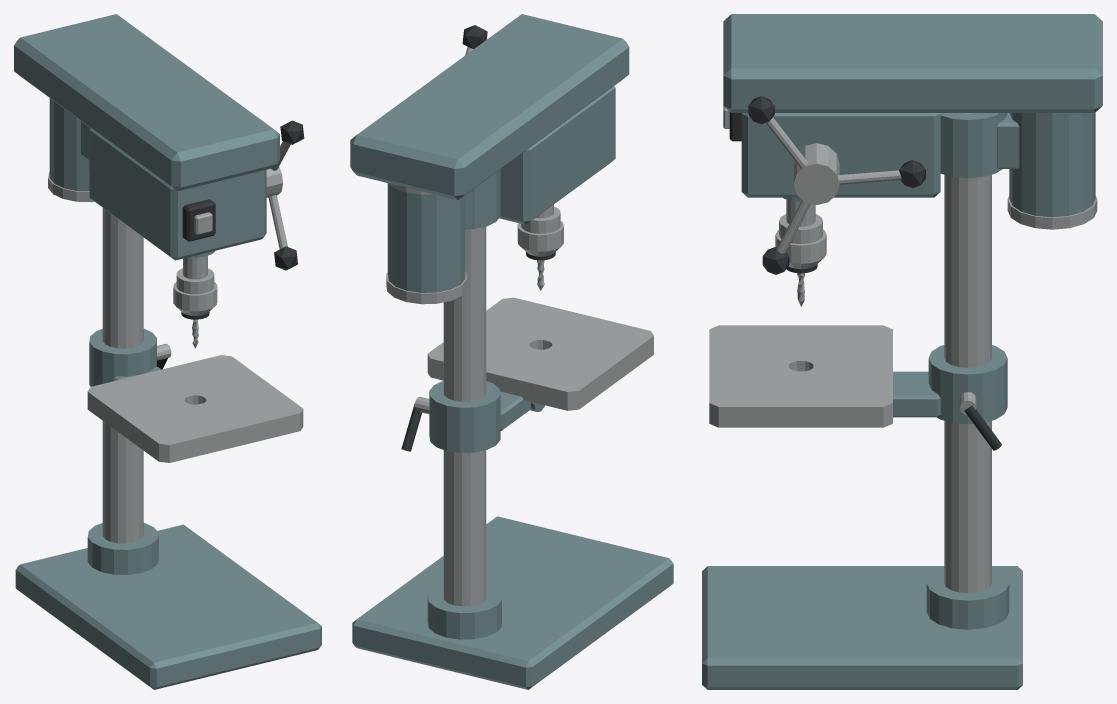
3 renders of one model, left to right at view 1: azimuth 30°, elevation 25°; view 2: azimuth 150°, elevation 25°; view 3: azimuth 270°, elevation 25°, orthographic. The views are drawn at different scales.
Visible parts, largest first — view 1: Planar cast base, Closed belt cover, Working table with through bore, Main head casting, Rear steel column, Faceted rear motor, Column foot socket, Height collar sleeve, Faceted chuck body, Switch enclosure, Chuck upper collar, Exposed quill (+2 smaller); view 2: Closed belt cover, Planar cast base, Working table with through bore, Rear steel column, Main head casting, Faceted rear motor, Height collar sleeve, Column foot socket, Head column sleeve, Faceted chuck body, Motor lower end cap, Table support arm (+1 smaller); view 3: Closed belt cover, Planar cast base, Working table with through bore, Rear steel column, Main head casting, Faceted rear motor, Height collar sleeve, Head column sleeve, Column foot socket, Feed handle hub, Table support arm, Motor lower end cap (+4 smaller).
Boxes of the visible parts, bbox=[...] form: Planar cast base: bbox=[15, 524, 321, 689]; Closed belt cover: bbox=[14, 14, 279, 191]; Working table with through bore: bbox=[87, 355, 303, 462]; Main head casting: bbox=[89, 128, 266, 260]; Rear steel column: bbox=[102, 208, 143, 543]; Faceted rear motor: bbox=[49, 98, 89, 191]; Column foot socket: bbox=[87, 523, 158, 574]; Height collar sleeve: bbox=[89, 328, 156, 386]; Faceted chuck body: bbox=[173, 282, 217, 315]; Switch enclosure: bbox=[182, 199, 215, 241]; Chuck upper collar: bbox=[176, 268, 214, 294]; Exposed quill: bbox=[183, 256, 207, 279]; Closed belt cover: bbox=[350, 14, 629, 199]; Planar cast base: bbox=[352, 516, 673, 689]; Working table with through bore: bbox=[427, 297, 653, 410]; Rear steel column: bbox=[443, 226, 486, 606]; Main head casting: bbox=[499, 86, 615, 224]; Faceted rear motor: bbox=[387, 183, 465, 292]; Height collar sleeve: bbox=[429, 380, 500, 452]; Column foot socket: bbox=[427, 584, 501, 639]; Head column sleeve: bbox=[466, 169, 500, 229]; Faceted chuck body: bbox=[517, 221, 563, 256]; Motor lower end cap: bbox=[386, 272, 466, 304]; Table support arm: bbox=[500, 391, 531, 430]; Closed belt cover: bbox=[723, 14, 1102, 112]; Planar cast base: bbox=[702, 566, 1022, 689]; Working table with through bore: bbox=[709, 325, 892, 427]; Rear steel column: bbox=[944, 113, 991, 593]; Main head casting: bbox=[741, 113, 940, 197]; Faceted rear motor: bbox=[1009, 112, 1095, 217]; Height collar sleeve: bbox=[928, 345, 1007, 424]; Head column sleeve: bbox=[940, 113, 1007, 178]; Column foot socket: bbox=[926, 569, 1009, 629]; Feed handle hub: bbox=[793, 143, 839, 204]; Table support arm: bbox=[893, 371, 940, 417]; Motor lower end cap: bbox=[1007, 196, 1097, 229].
Bounding box in the file's own units: 0.2562 × 0.725 × 0.437.
